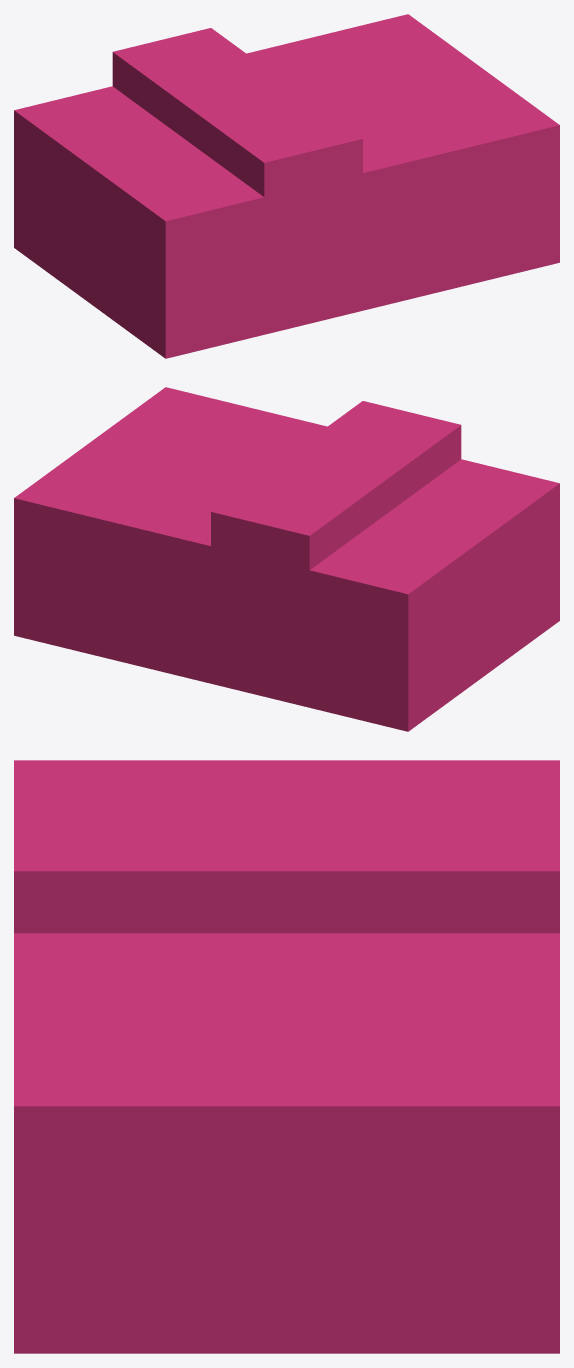
File: jane_doe_body.dae
The picture shows the model from 3 angles, top to bottom: view 1: azimuth 30°, elevation 25°; view 2: azimuth 150°, elevation 25°; view 3: azimuth 270°, elevation 25°; orthographic projection. The views are drawn at different scales.
Visible parts, largest first — view 1: PlaneCOL; view 2: PlaneCOL; view 3: PlaneCOL.
Part boxes in pixels (x1,y1,x2,y2): PlaneCOL: (14,14,559,358); PlaneCOL: (14,387,559,731); PlaneCOL: (14,760,559,1353).
Size of the model in its own units: 1.2 by 0.8 by 0.5.
